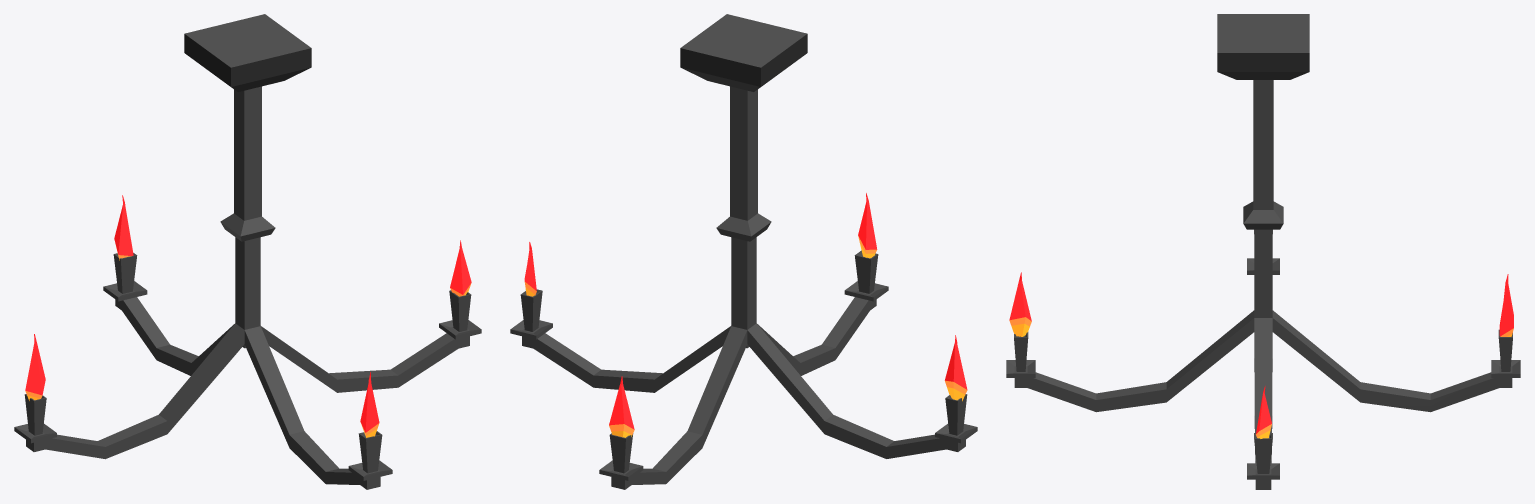
The model's file is Chandelier.fbx.
3 renders of one model, left to right at view 1: azimuth 30°, elevation 25°; view 2: azimuth 150°, elevation 25°; view 3: azimuth 270°, elevation 25°, orthographic.
Visible parts, largest first — view 1: Chandelier, Fire; view 2: Chandelier, Fire; view 3: Chandelier, Fire.
Part boxes in pixels (x1,y1,x2,y2): Chandelier: [14, 14, 481, 489]; Fire: [25, 195, 471, 437]; Chandelier: [510, 14, 977, 489]; Fire: [524, 193, 967, 437]; Chandelier: [1006, 14, 1520, 489]; Fire: [1009, 272, 1513, 438].
Bounding box in the file's own units: 3.17 × 3.17 × 2.55.
